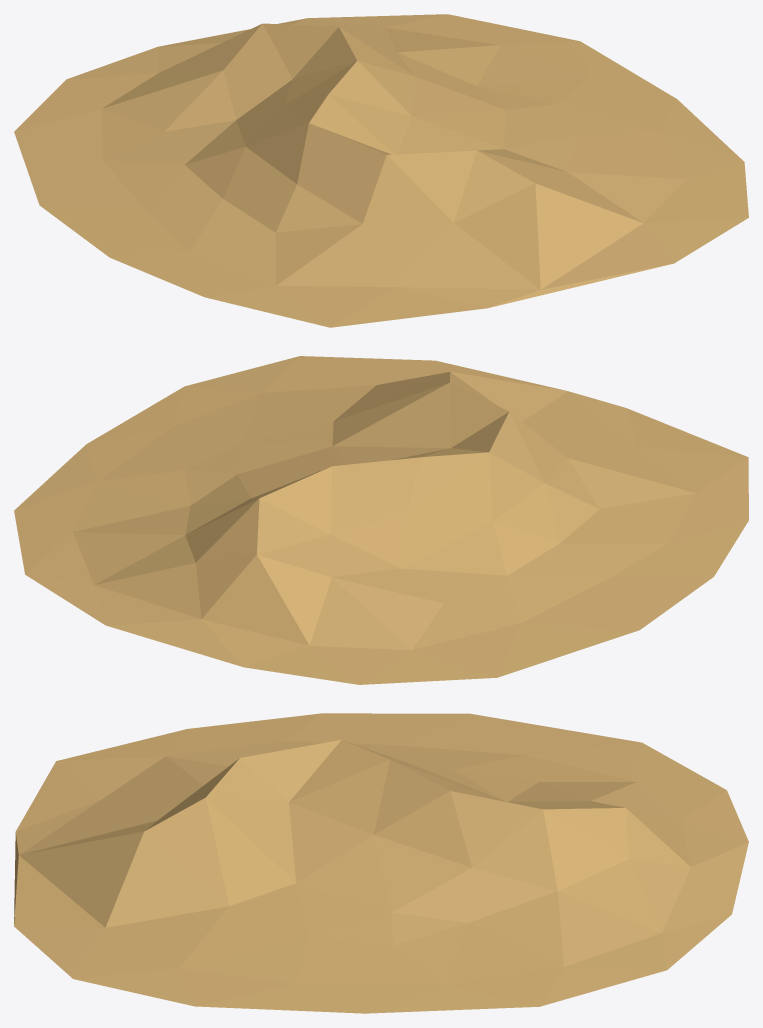
File: TB_D_Env_DuneA_B.FBX
3 renders of one model, top to bottom at view 1: azimuth 30°, elevation 25°; view 2: azimuth 150°, elevation 25°; view 3: azimuth 270°, elevation 25°, orthographic. The views are drawn at different scales.
Visible parts, largest first — view 1: TB_D_Env_DuneA_B; view 2: TB_D_Env_DuneA_B; view 3: TB_D_Env_DuneA_B.
Boxes of the visible parts, x1,y1,x2,y2 form: TB_D_Env_DuneA_B: (14, 14, 748, 327); TB_D_Env_DuneA_B: (14, 356, 748, 684); TB_D_Env_DuneA_B: (14, 713, 748, 1013).
Size of the model in its own units: 15.41 by 1.96 by 15.93.
